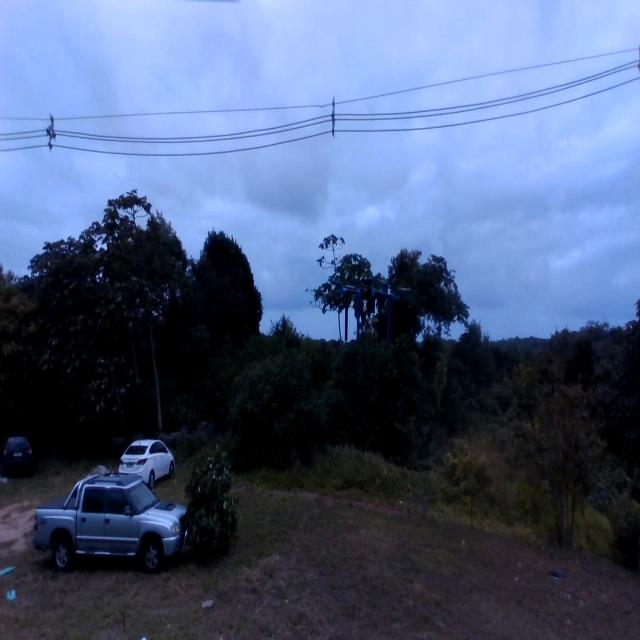-uav-: (317, 260, 423, 358)
